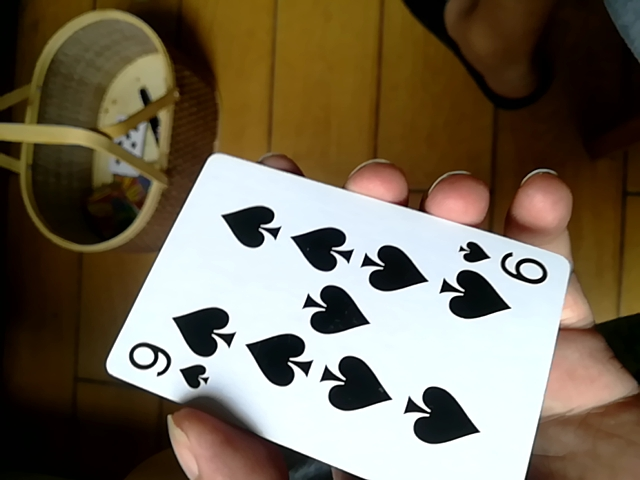ht 9: (111, 150, 577, 479)
